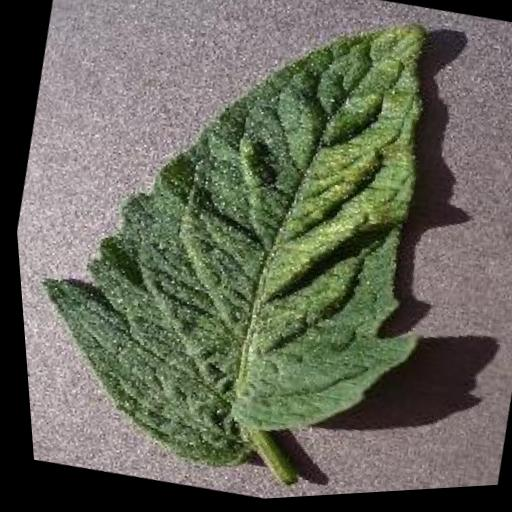Spider Mites: (0, 0, 490, 512)
